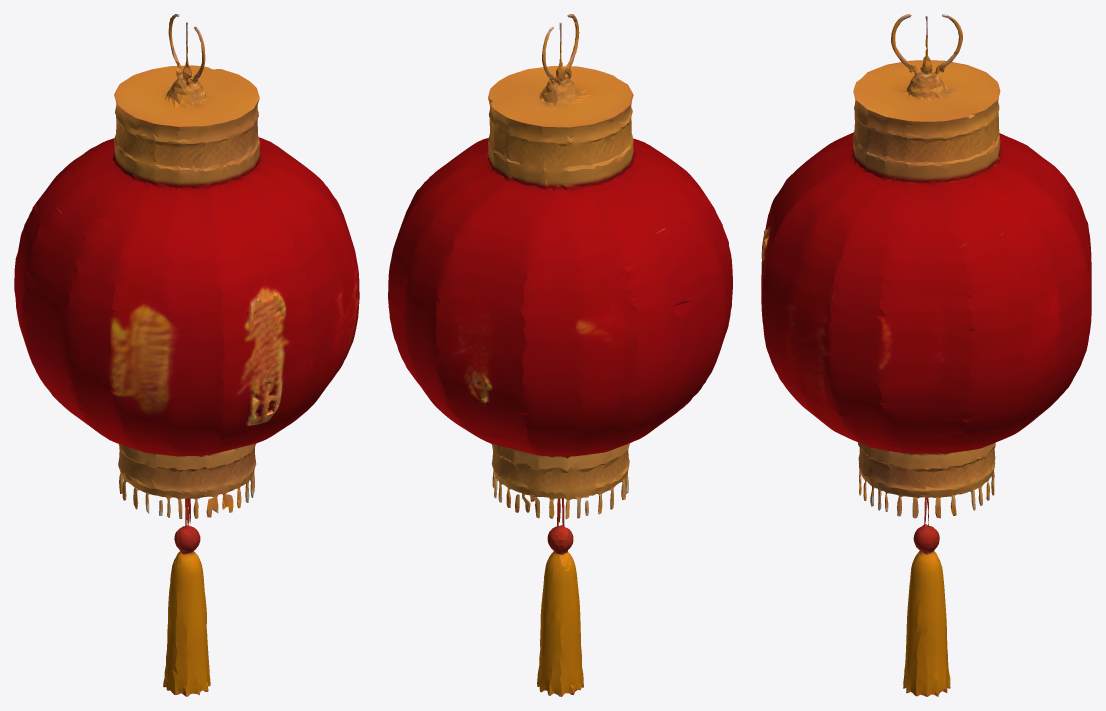
File: china_lantern.glb
3 renders of one model, left to right at view 1: azimuth 30°, elevation 25°; view 2: azimuth 150°, elevation 25°; view 3: azimuth 270°, elevation 25°, orthographic.
Visible parts, largest first — view 1: china_lantern; view 2: china_lantern; view 3: china_lantern.
Boxes of the visible parts, x1,y1,x2,y2 form: china_lantern: (14, 14, 359, 696); china_lantern: (388, 14, 732, 696); china_lantern: (761, 14, 1091, 696).
Size of the model in its own units: 0.8478 by 1.9 by 0.8443.
Materials: 1 (1 with a texture image).
